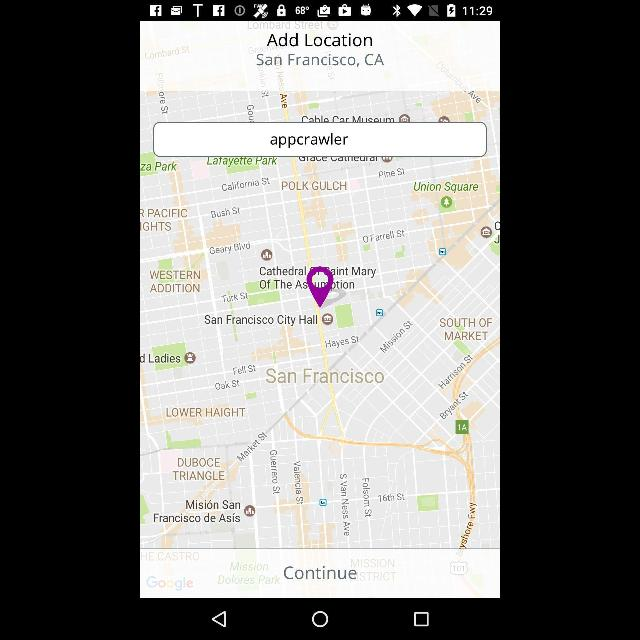icon: (312, 610, 328, 628), (212, 610, 226, 628), (414, 612, 428, 626)
input: (155, 122, 487, 158)
map: (140, 91, 500, 546)
panel: (140, 598, 500, 640)
text: (256, 54, 384, 68), (266, 34, 372, 46), (282, 566, 358, 582), (270, 136, 348, 148)
textbutton: (140, 548, 500, 598)
uppertaskbar: (140, 0, 500, 20)
